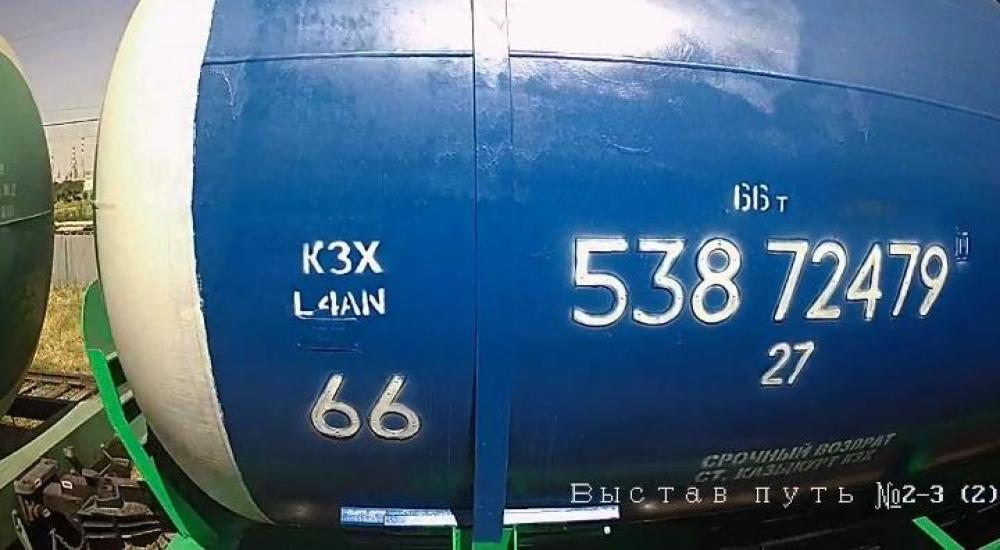Wagon-number: (566, 234, 951, 331)
